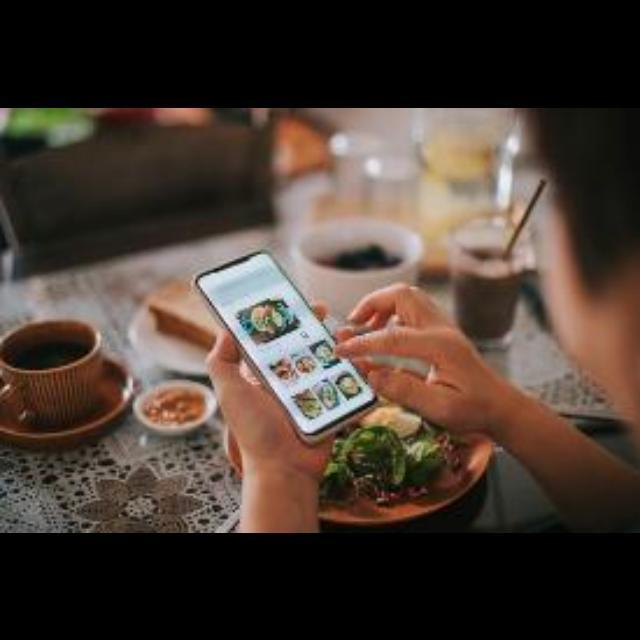PhoneUse: (196, 250, 382, 444)
